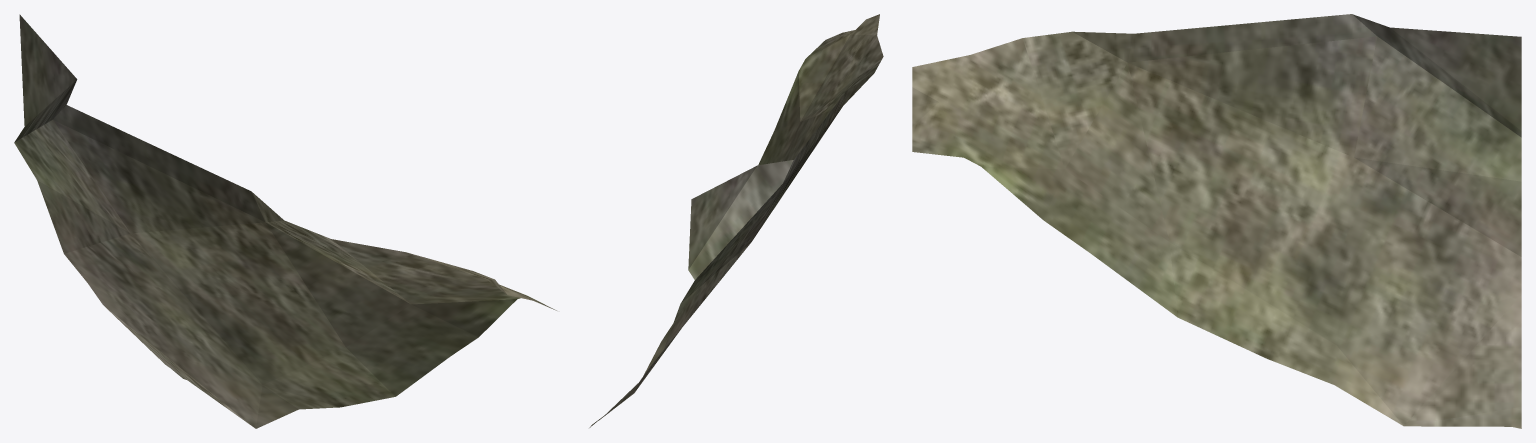
The picture shows the model from 3 angles, left to right: view 1: azimuth 30°, elevation 25°; view 2: azimuth 150°, elevation 25°; view 3: azimuth 270°, elevation 25°; orthographic projection. The views are drawn at different scales.
Size of the model in its own units: 1 by 1.75 by 2.95.
2 materials, 2 textured.
